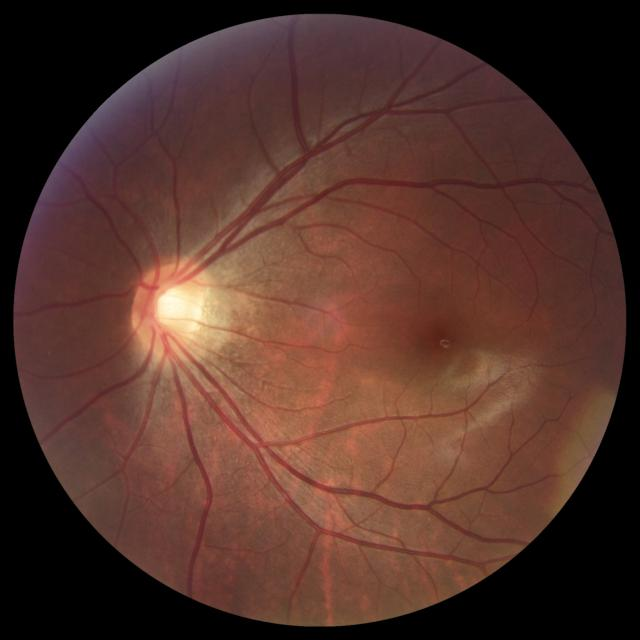OC: (153, 285, 190, 328)
OD: (132, 261, 210, 356)
